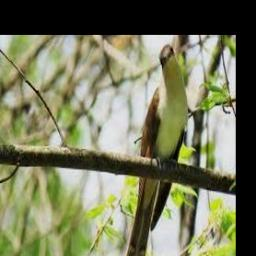Cuckoo: (124, 45, 188, 256)
